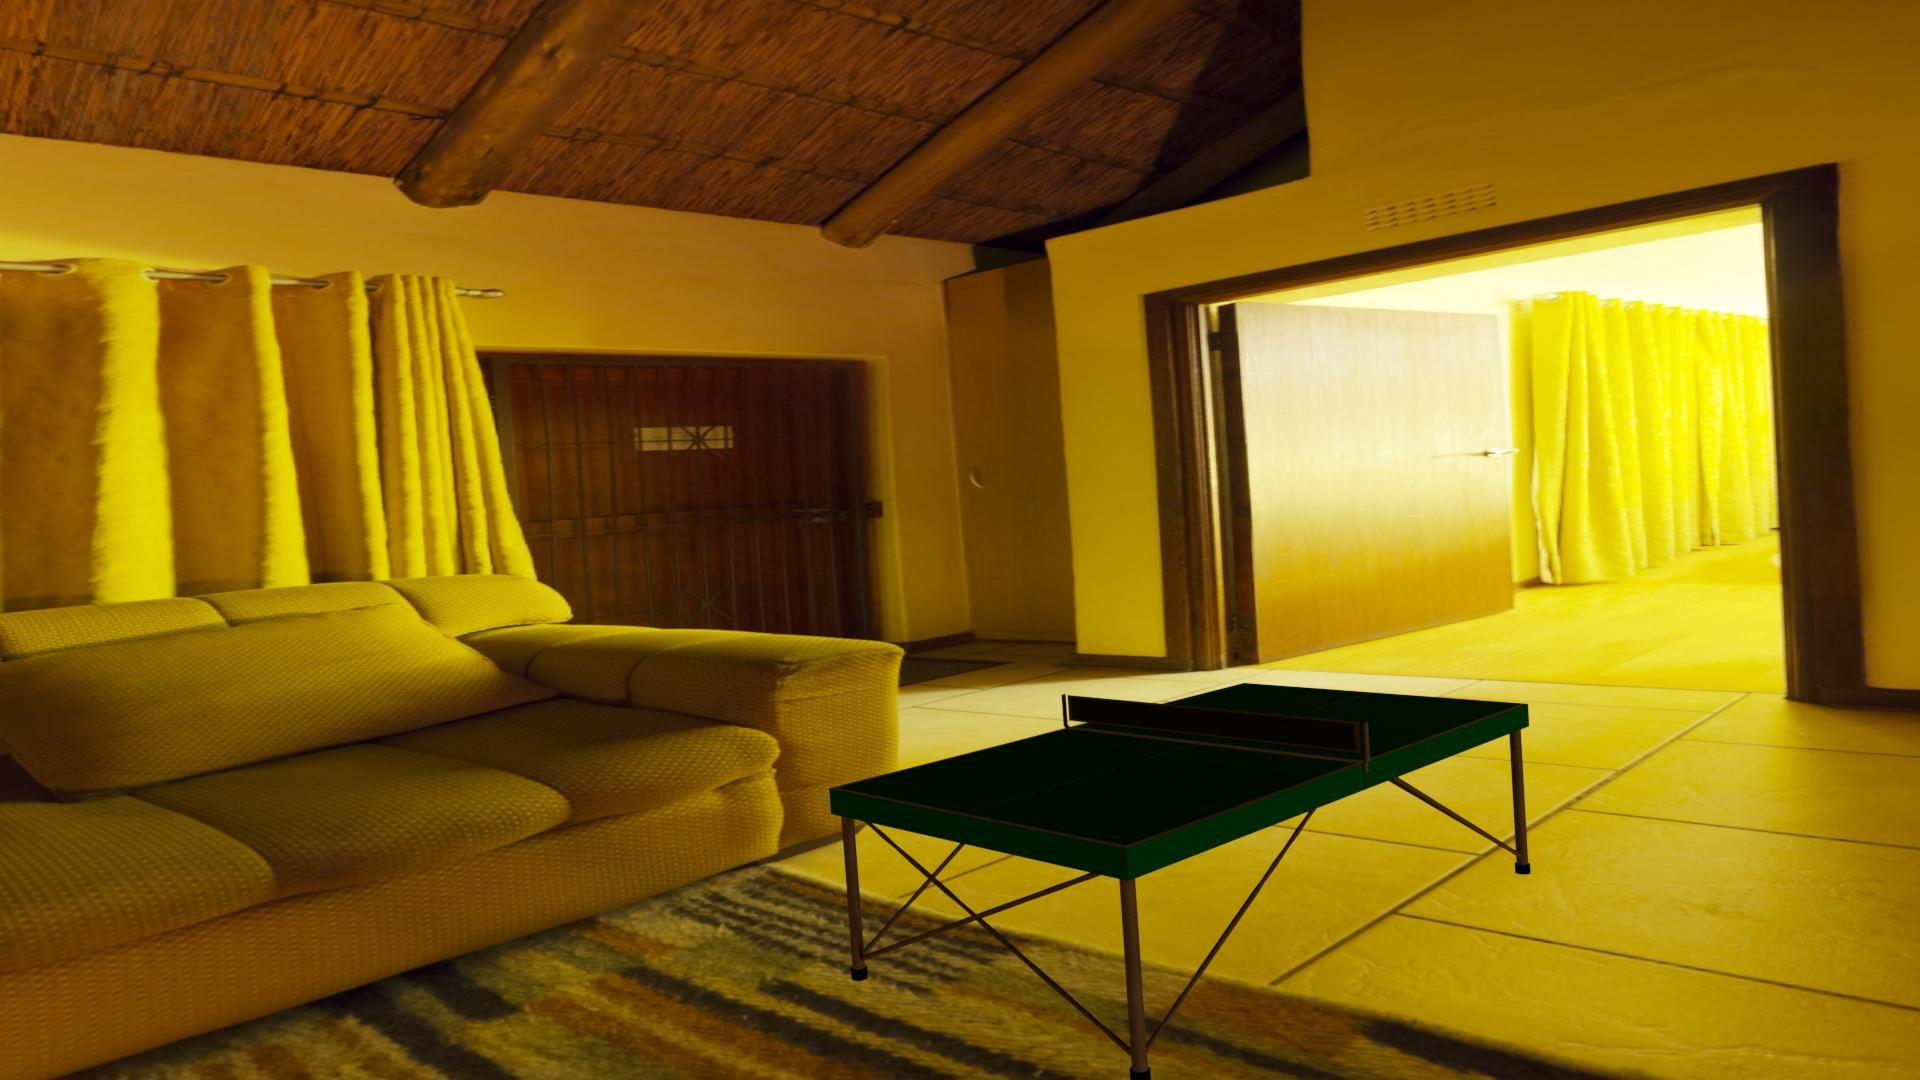table: (836, 683, 1522, 845)
